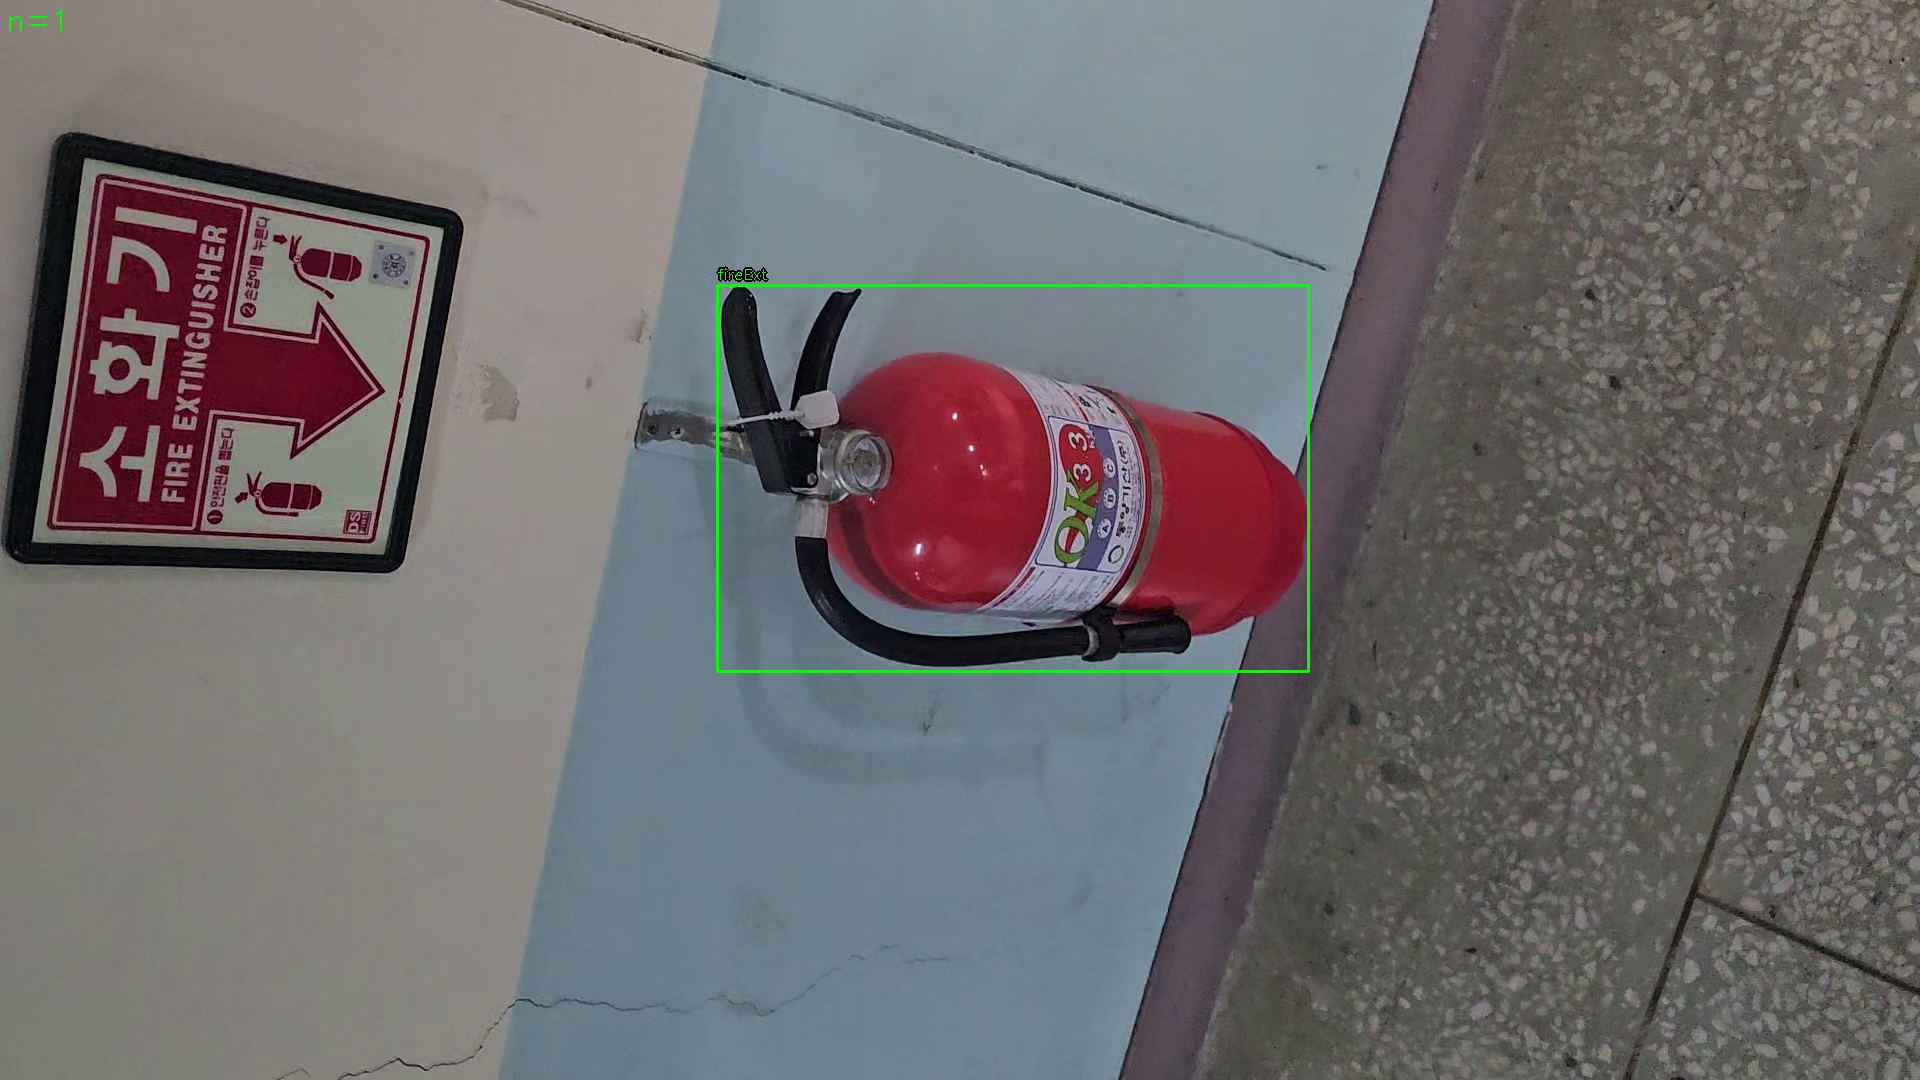lane: (717, 285, 1309, 673)
